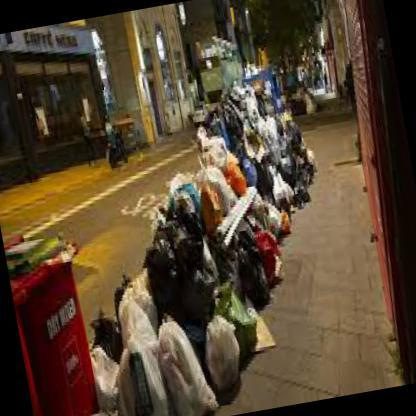Garbage: (117, 204, 277, 410), (85, 295, 223, 415), (177, 152, 285, 295), (214, 77, 324, 214), (6, 236, 74, 272)
